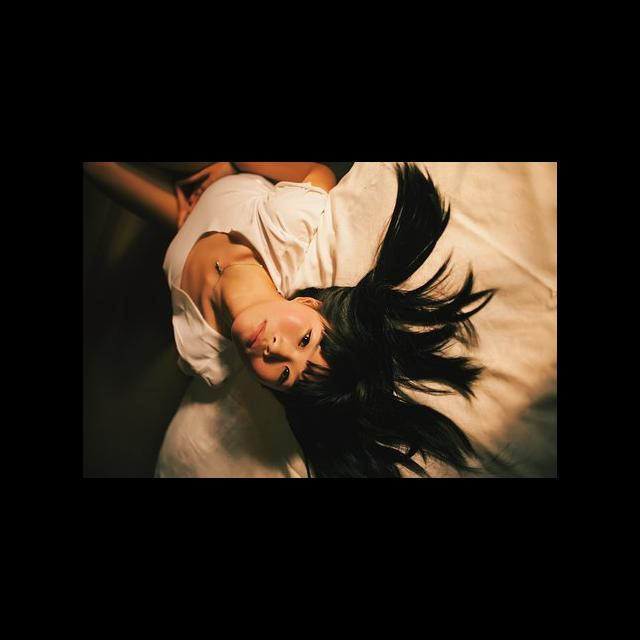female: (183, 256, 382, 417)
